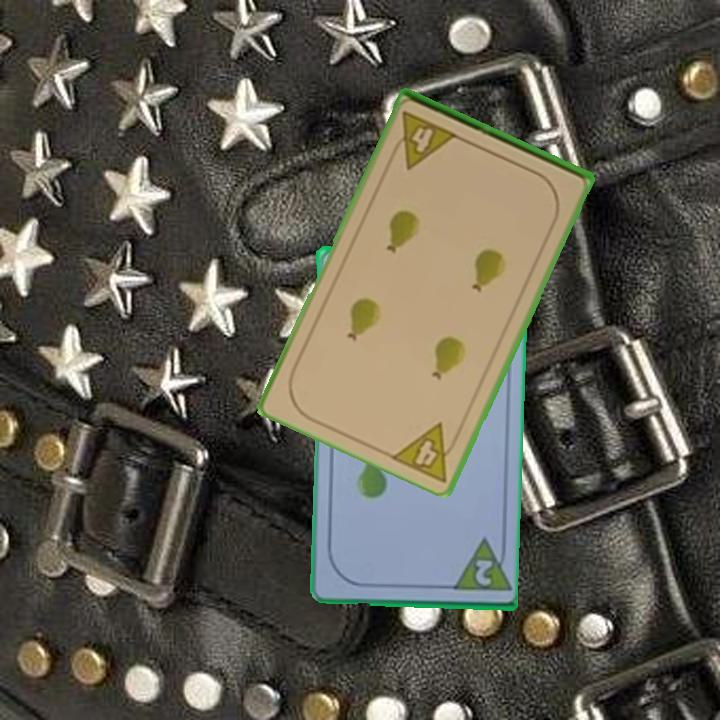2p: (471, 555, 495, 589)
4p: (387, 419, 465, 485), (386, 108, 461, 172)
